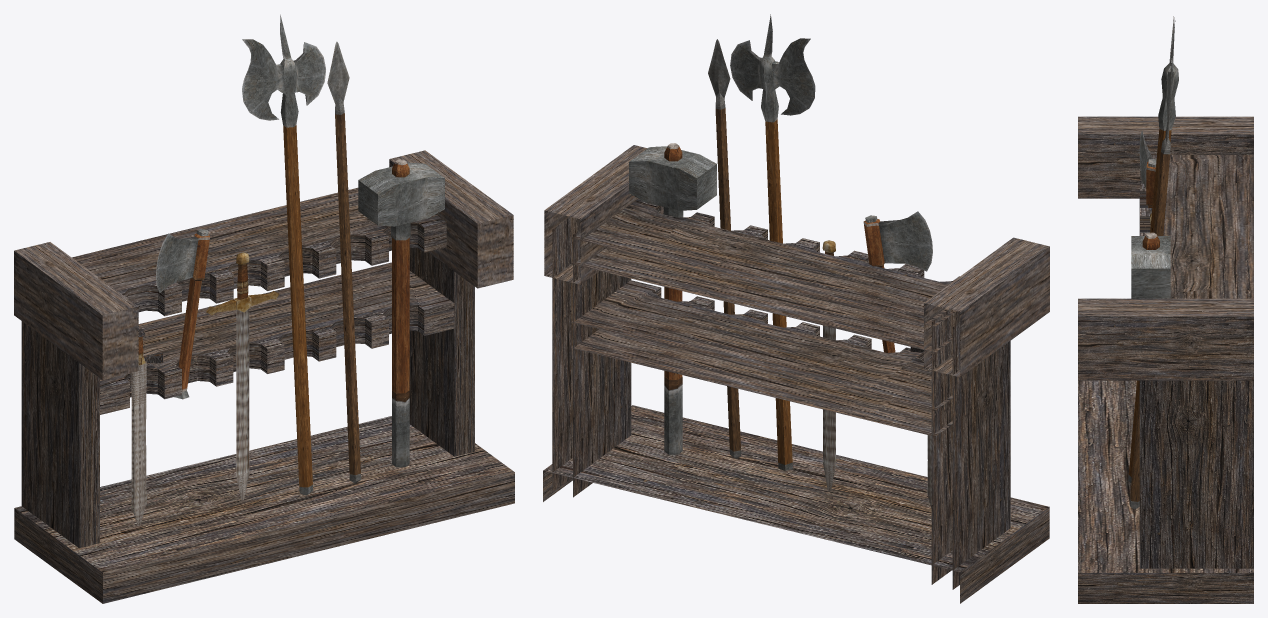
File: mm9_deco_weaponrackns.glb
The picture shows the model from 3 angles, left to right: view 1: azimuth 30°, elevation 25°; view 2: azimuth 150°, elevation 25°; view 3: azimuth 270°, elevation 25°; orthographic projection.
Parts seen in each view (by area): view 1: Weaponrackns; view 2: Weaponrackns; view 3: Weaponrackns.
Boxes of the visible parts, x1,y1,x2,y2 form: Weaponrackns: (14,14,514,603); Weaponrackns: (543,14,1049,603); Weaponrackns: (1078,16,1253,603).
Size of the model in its own units: 1.95 by 2.26 by 0.7263.
2 materials, 2 textured.
